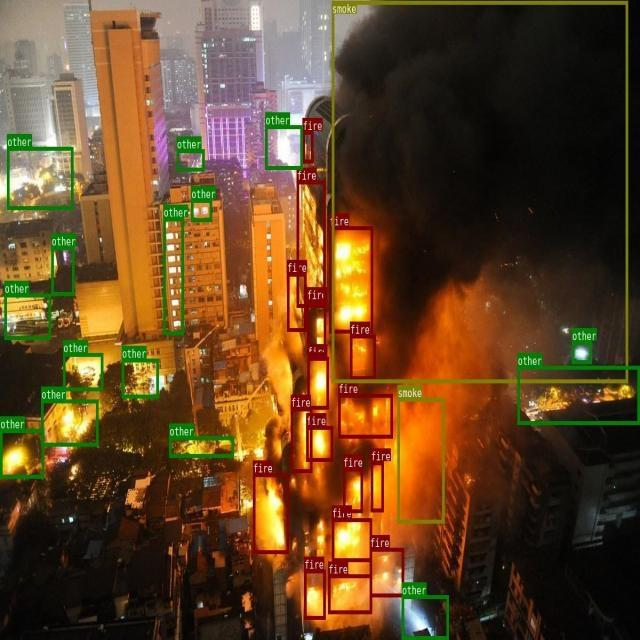fire: (329, 226, 373, 332), (296, 181, 325, 307), (253, 473, 288, 554), (338, 394, 392, 438), (331, 518, 372, 561), (370, 547, 404, 597), (328, 575, 371, 614), (290, 407, 312, 472), (350, 334, 376, 379), (287, 272, 306, 331), (304, 569, 326, 619), (306, 300, 326, 355), (307, 357, 328, 408), (306, 426, 333, 461), (343, 468, 363, 512), (371, 461, 384, 512), (302, 131, 313, 162)
smoke: (331, 1, 628, 383), (397, 397, 444, 523)
